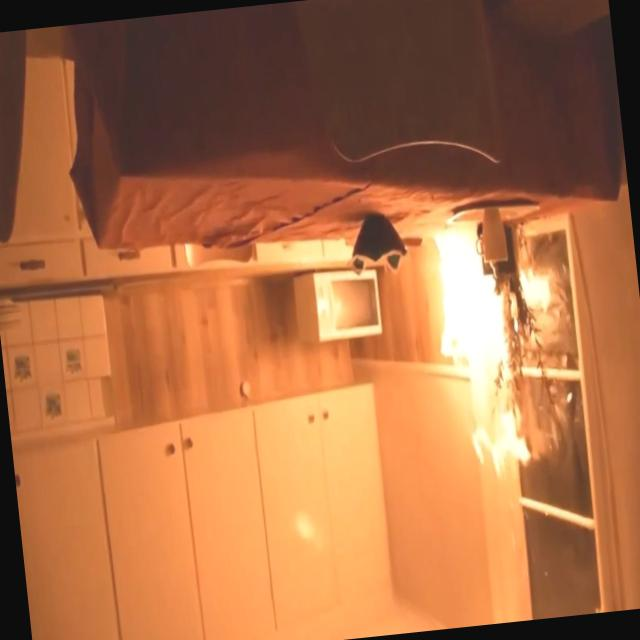fire: (414, 204, 581, 499)
